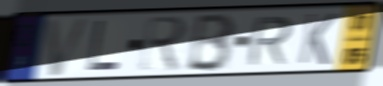B: (185, 11, 238, 74)
K: (296, 12, 340, 67)
L: (86, 19, 122, 73)
R: (138, 15, 188, 74), (245, 14, 295, 67)
V: (44, 15, 94, 79)
